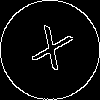X: (25, 25, 75, 80)
